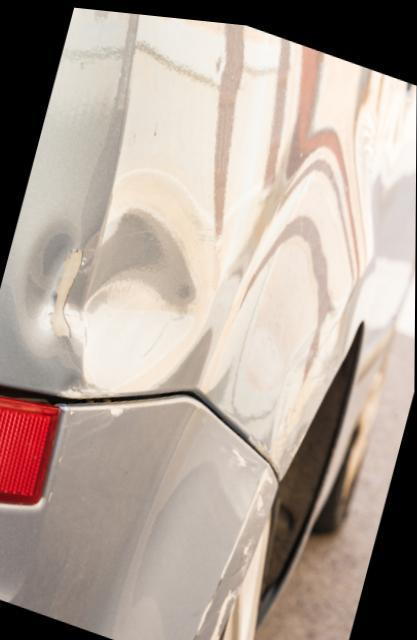dent: (20, 199, 212, 397)
scratch: (194, 443, 274, 640)
